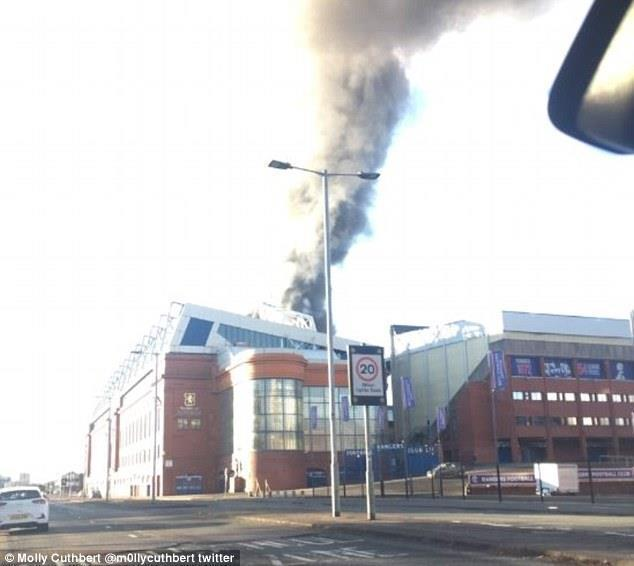smoke: (321, 69, 381, 181), (321, 9, 433, 54)
